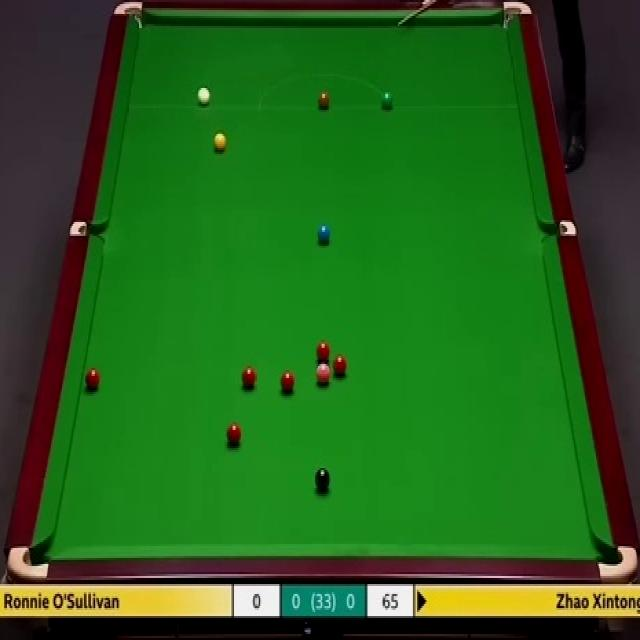black-ball: (314, 468, 331, 490)
blue-ball: (318, 224, 332, 243)
brown-ball: (318, 88, 330, 108)
green-ball: (379, 92, 392, 110)
pink-ball: (316, 364, 331, 388)
red-ball: (227, 421, 243, 449), (241, 364, 256, 390), (332, 354, 346, 378), (85, 368, 99, 391), (280, 371, 294, 392), (316, 341, 331, 360)
white-ball: (198, 85, 210, 105)
yellow-ball: (214, 130, 228, 155)
